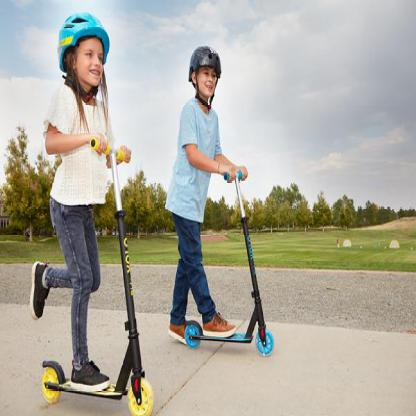scooter: (41, 135, 155, 415), (184, 165, 275, 358)
with helmet: (58, 13, 110, 92), (187, 44, 221, 98)
